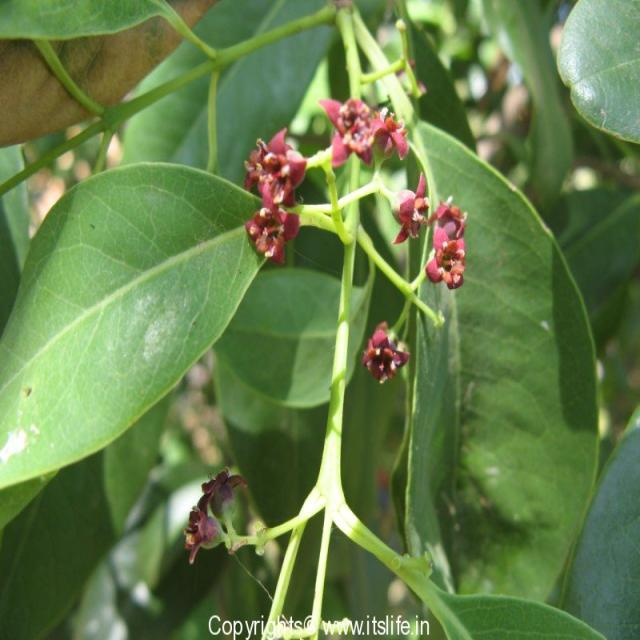Medicinal-Sandalwood: (14, 0, 640, 610)
